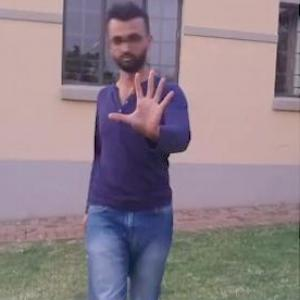follow_hand: (107, 66, 180, 142)
